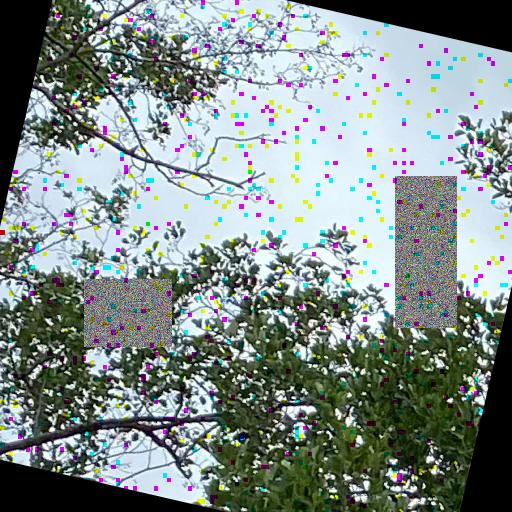tree: (1, 1, 376, 486), (199, 110, 512, 512)
